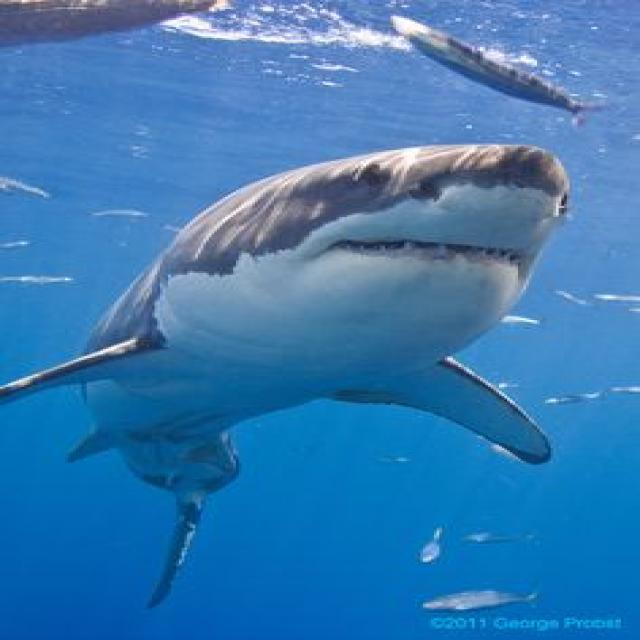Carnivorous: (0, 143, 572, 611)
